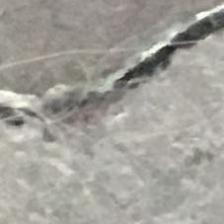Crack: (0, 10, 224, 126)
